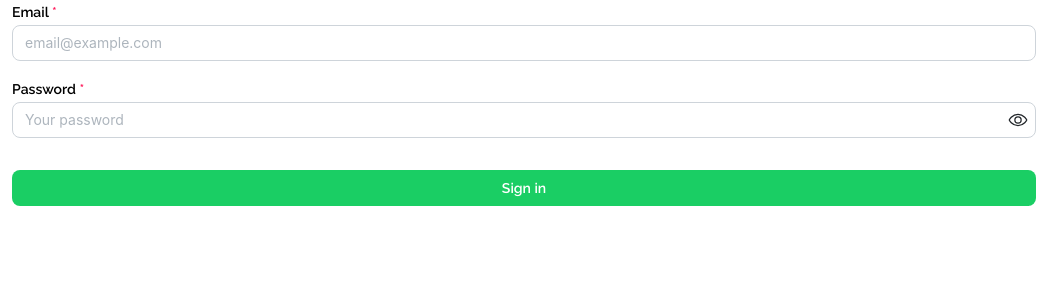
Test: SignInForm › shows generic error when fetch fails
Type "user@example.com" into the field with placeholder "email@example.com" at {"x": 524, "y": 43}, box [12,25,1036,61]
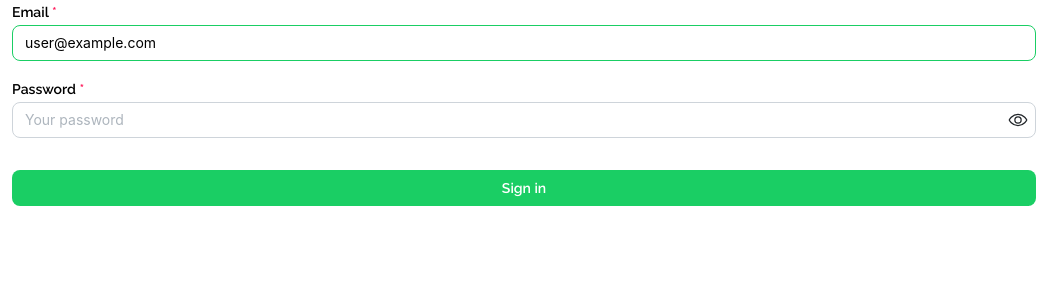
Type "secret" into the password field with placeholder "Your password" at {"x": 524, "y": 120}, box [13,103,1035,137]
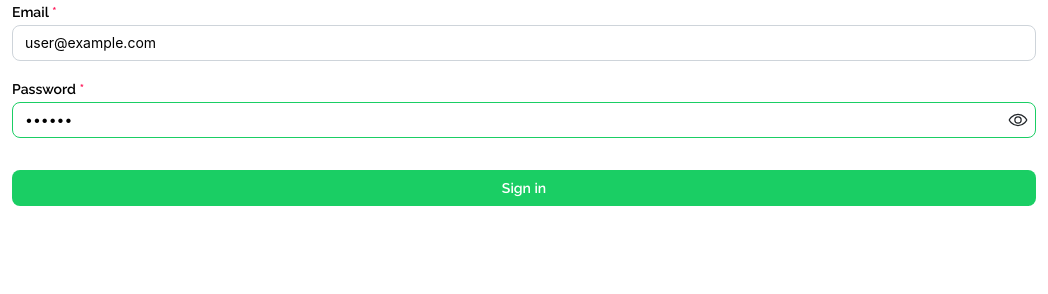
Click the button "Sign in" at {"x": 524, "y": 188}, box [12,170,1036,206]
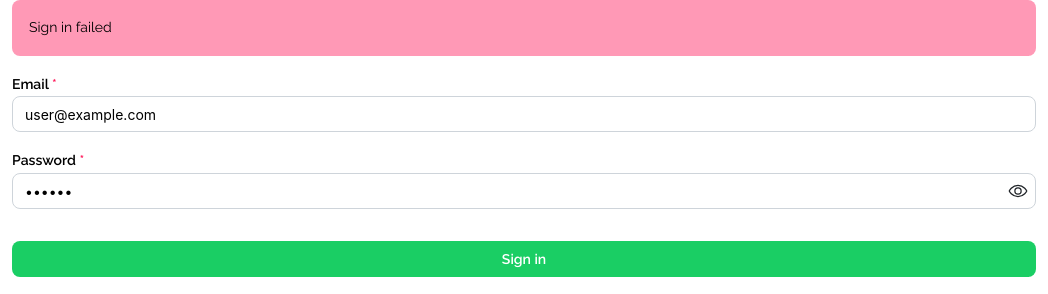
Expected: the text "Sign in failed" is shown, [29,19,112,35]
